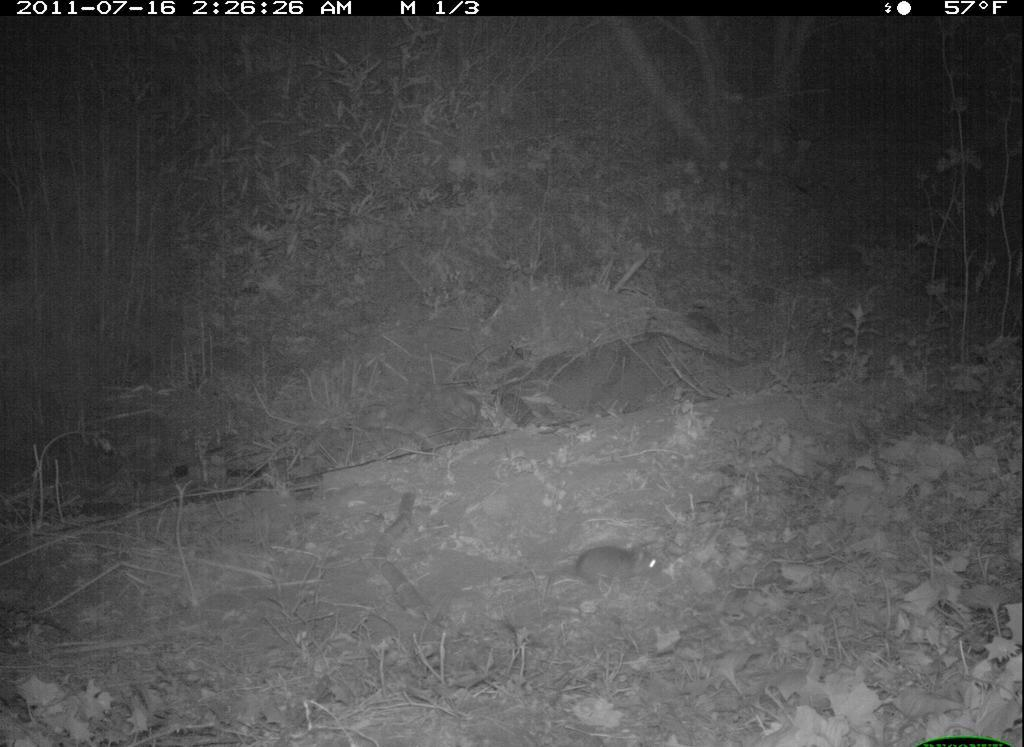rodent: (543, 545, 666, 600)
